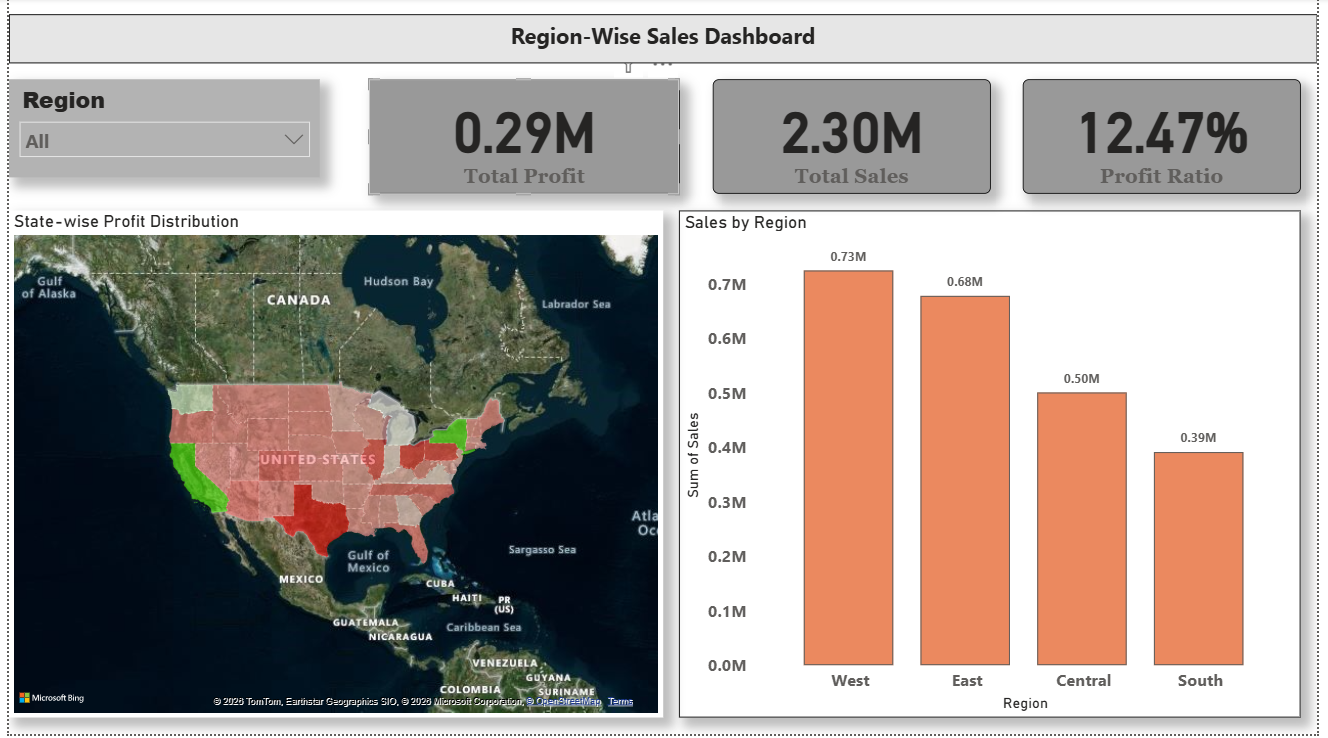

Layout of this report page (visuals, bound fields, positions):
{"tool":"powerbi","page":{"name":"Dashboard","canvas":[1280,720],"ordinal":0},"visuals":[{"type":"clusteredColumnChart","title":"Sales by Region","fields":{"Y":["Sum(Orders.Sales)"],"Category":["Orders.Region-wise"]},"box":[656,208,608,496],"z":0},{"type":"card","fields":{"Values":["Orders.Total Profit"]},"box":[352,80,304,112],"z":1000},{"type":"card","fields":{"Values":["Orders.Total Sales"]},"box":[688,80,272,112],"z":2000},{"type":"card","fields":{"Values":["Orders.Profit Ratio"]},"box":[992,80,272,112],"z":3000},{"type":"filledMap","title":"State-wise Profit Distribution","fields":{"Category":["Orders.State"]},"box":[0,208,640,496],"z":4000},{"type":"slicer","fields":{"Values":["Orders.Region-wise"]},"box":[0,80,304,96],"z":5000},{"type":"textbox","box":[0,16,1280,48],"z":6000}]}

Visuals, with their boxes in screenshot pixels (x1, y1, x2, y2), scaled from the page's 1280x720 canvas onto the 1328x738 screenshot:
"Sales by Region" clusteredColumnChart: x1=681, y1=213, x2=1311, y2=722
card - Orders.Total Profit: x1=365, y1=82, x2=681, y2=197
card - Orders.Total Sales: x1=714, y1=82, x2=996, y2=197
card - Orders.Profit Ratio: x1=1029, y1=82, x2=1311, y2=197
"State-wise Profit Distribution" filledMap: x1=0, y1=213, x2=664, y2=722
slicer - Orders.Region-wise: x1=0, y1=82, x2=315, y2=180
textbox: x1=0, y1=16, x2=1327, y2=66
